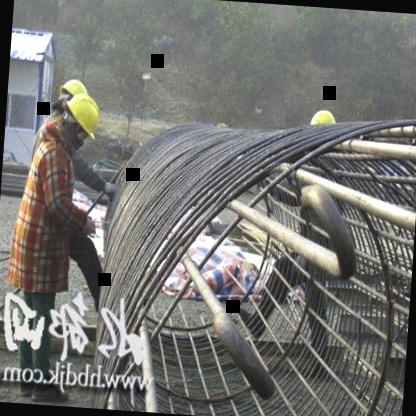helmet: (62, 90, 102, 142), (54, 75, 87, 115)
